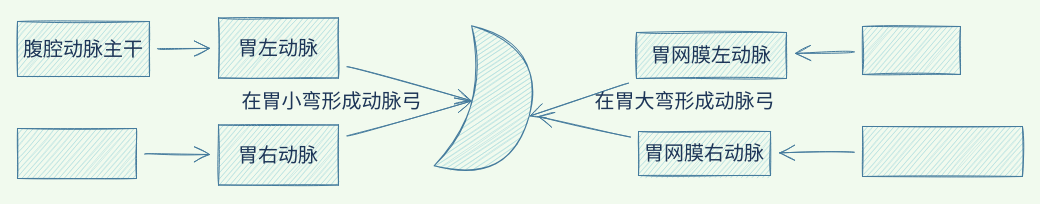
The diagram is 1040 pixels wide and 204 high, and some of its shapes have lost their labels. The shapes that lost their labels are listed below. From the top down, each one's centre as x and y in pixels, then its label:
the point at 911,50: 脾动脉
the point at 76,153: 肝固有动脉
the point at 942,151: 胃十二指肠动脉
